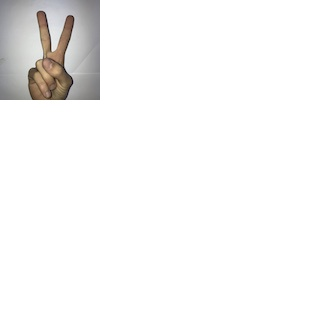scissors: (23, 5, 77, 99)
